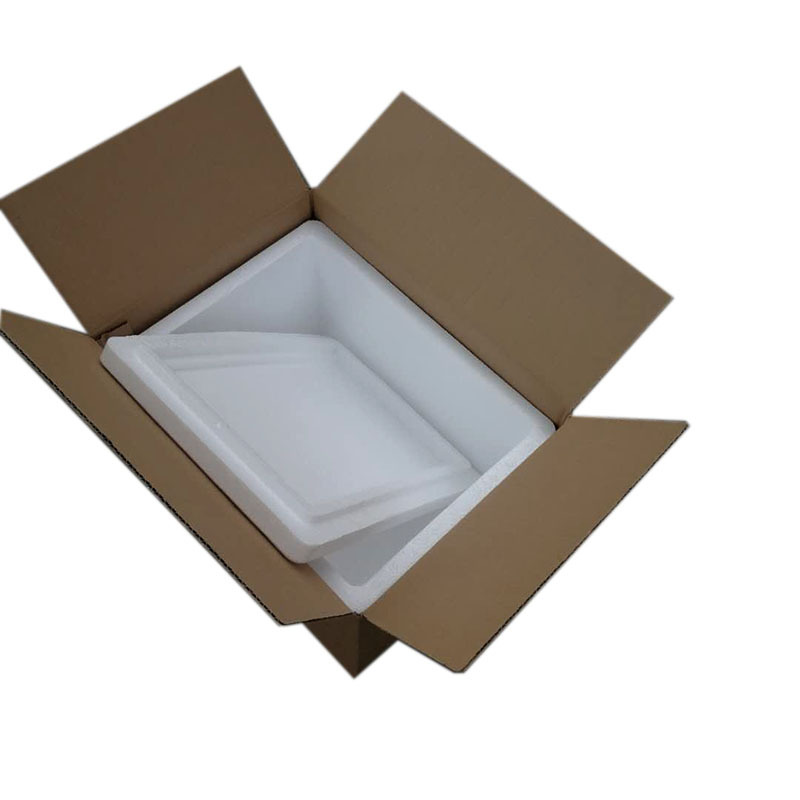泡沫箱: (102, 227, 552, 572)
